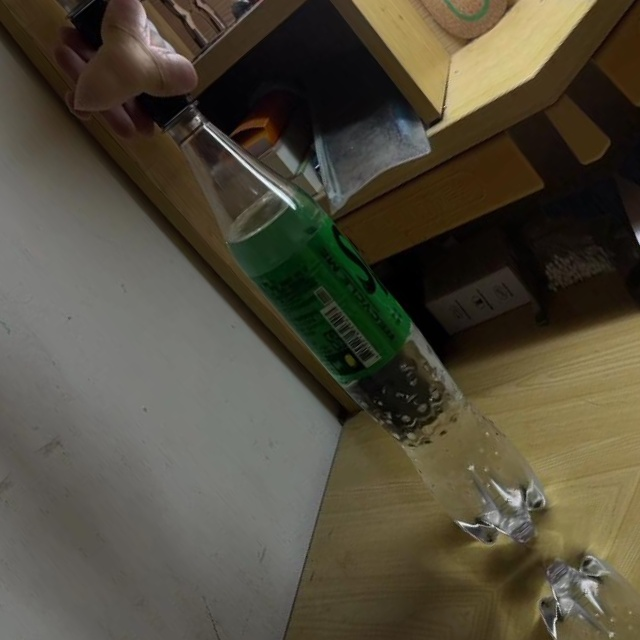Sprite: (112, 52, 571, 572)
